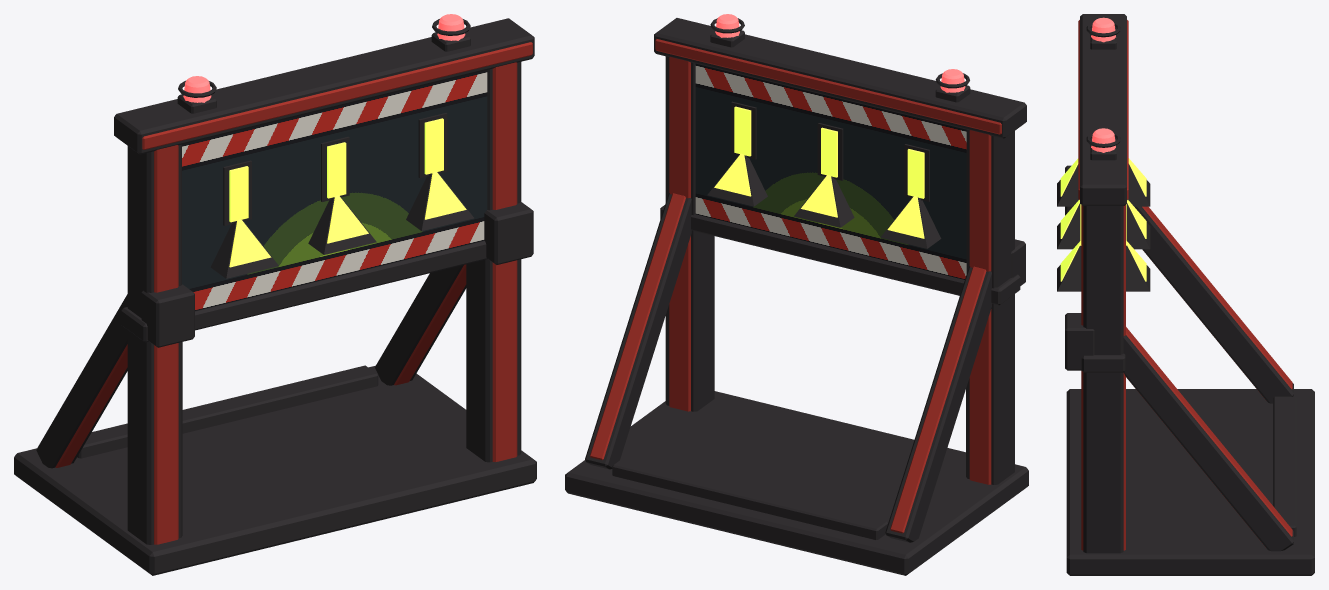
File: arco_galibo.glb
3 views of the same model, side by side, from view 1: azimuth 30°, elevation 25°; view 2: azimuth 150°, elevation 25°; view 3: azimuth 270°, elevation 25° (orthographic). The views are drawn at different scales.
Visible parts, largest first — view 1: Arco_Galibo; view 2: Arco_Galibo; view 3: Arco_Galibo.
Part boxes in pixels (bbox=[...]): Arco_Galibo: bbox=[14, 14, 536, 575]; Arco_Galibo: bbox=[565, 14, 1028, 575]; Arco_Galibo: bbox=[1057, 14, 1314, 575].
Size of the model in its own units: 2.44 by 2.74 by 1.54.
5 materials, 1 textured.
